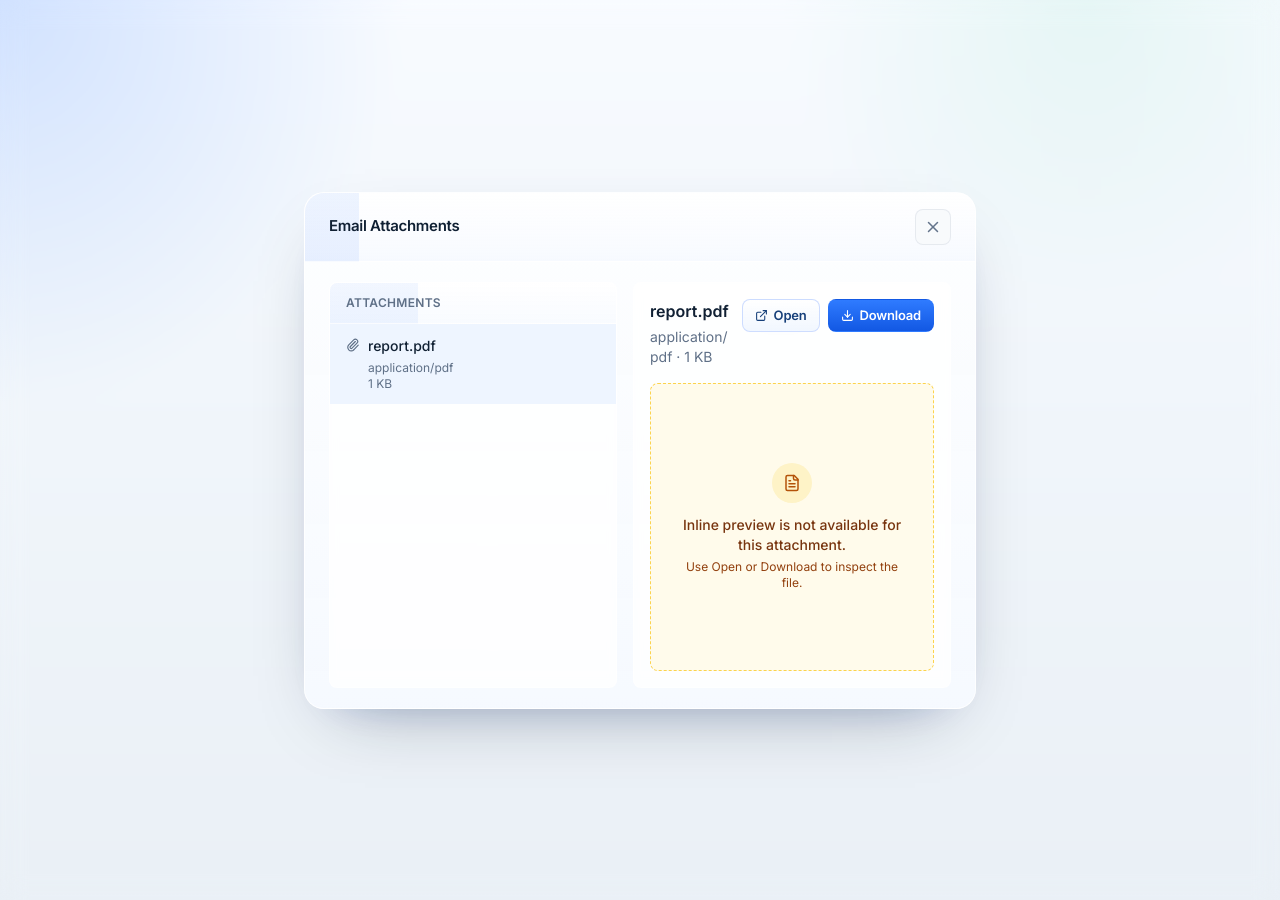
Test case: AttachmentViewerModal › shows a clear error when open fails after a content fetch error
The width and height of the screenshot is (1280, 900).
Click the button "Open" at point(781, 315), box [742, 298, 820, 332]
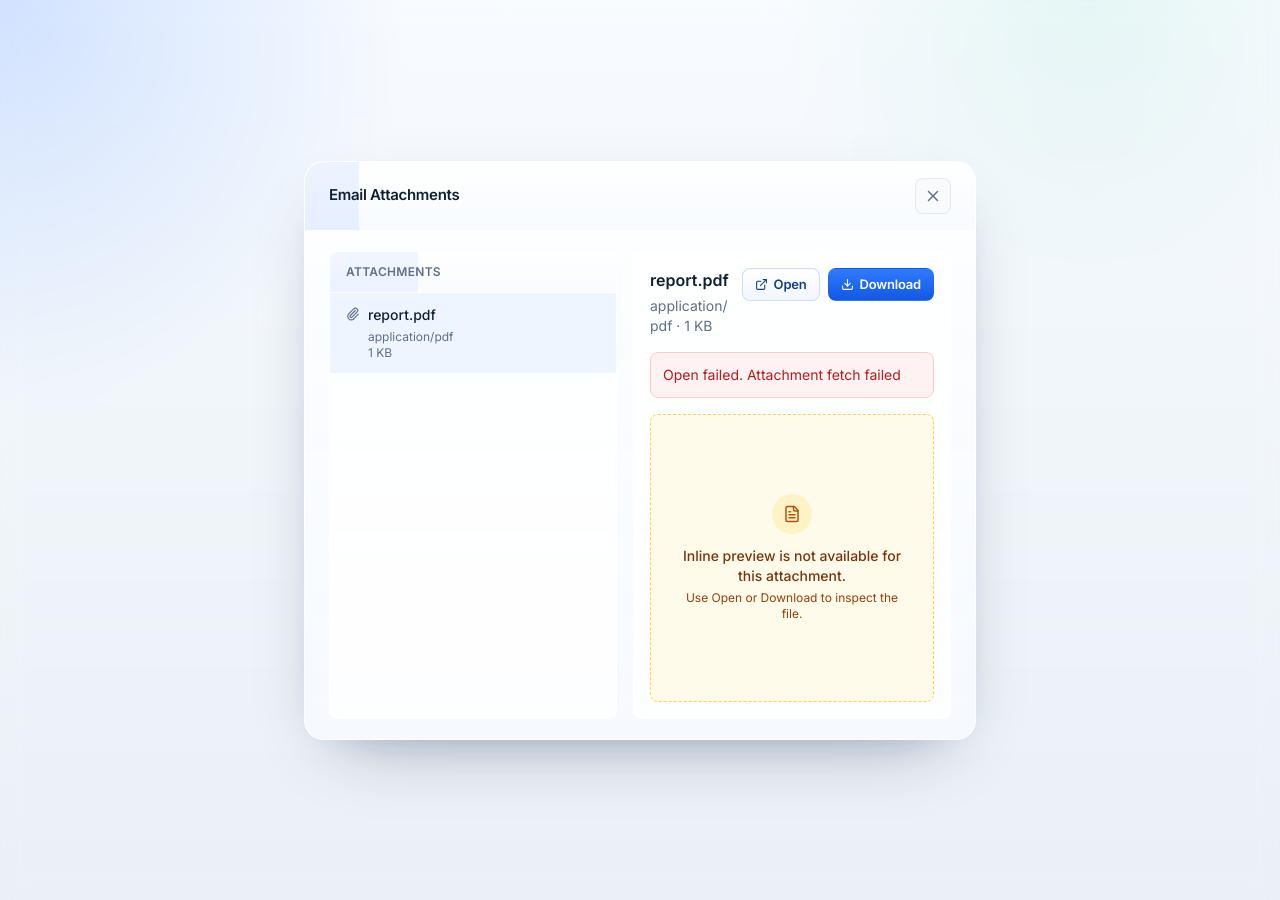
Check: the text "Open failed. Attachment fetch failed" is shown, box [650, 352, 934, 398]
